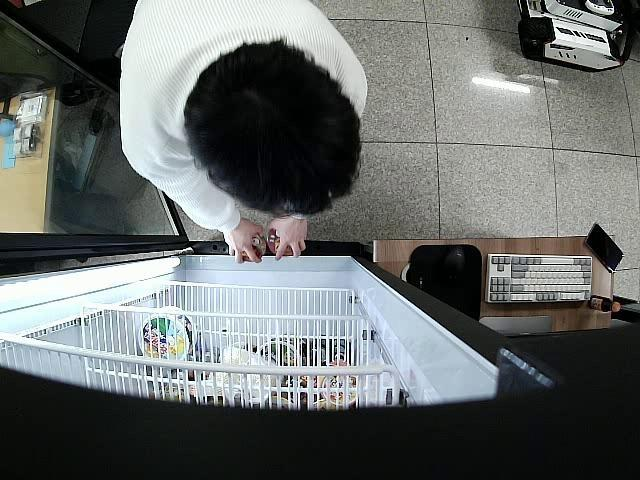06_nuguri_S: (268, 226, 302, 258), (240, 236, 266, 264)
